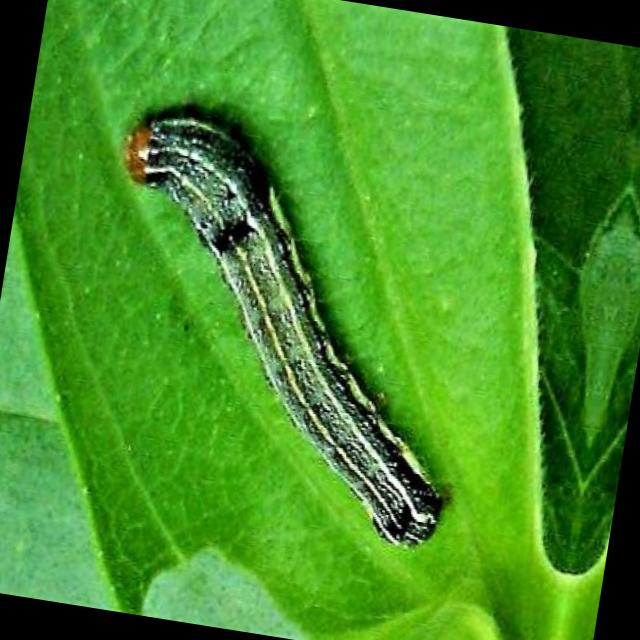Armyworm: (49, 54, 521, 601)
